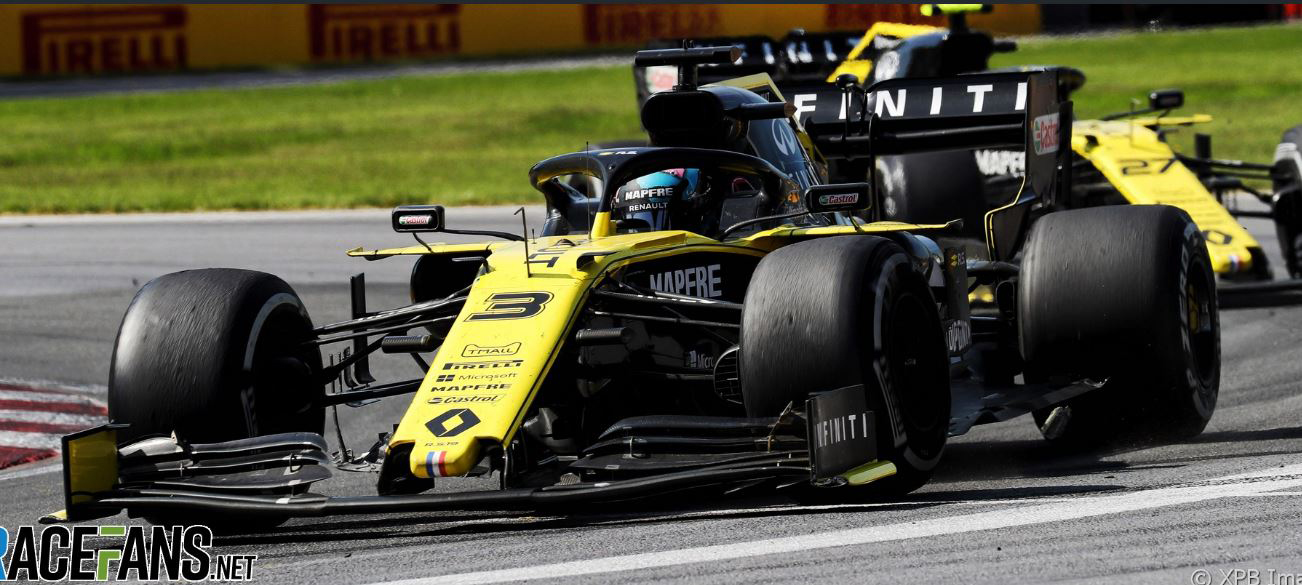F1 Car: (27, 41, 1228, 528)
